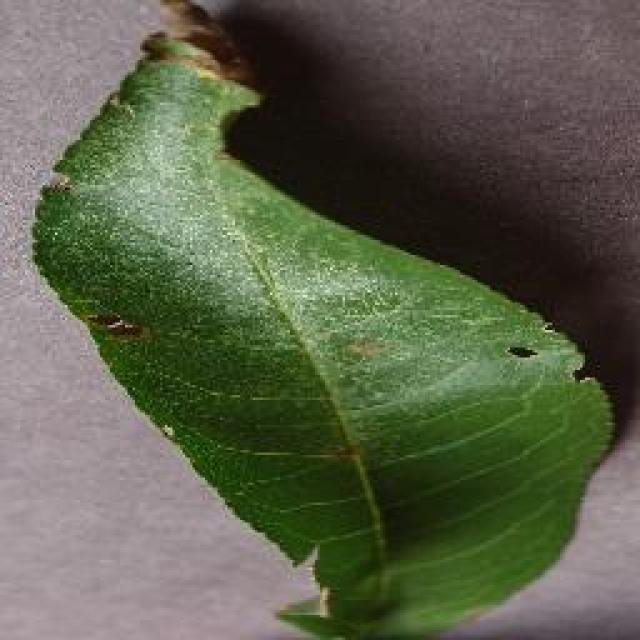Peach_Bacterial_Spot: (72, 34, 393, 384)
